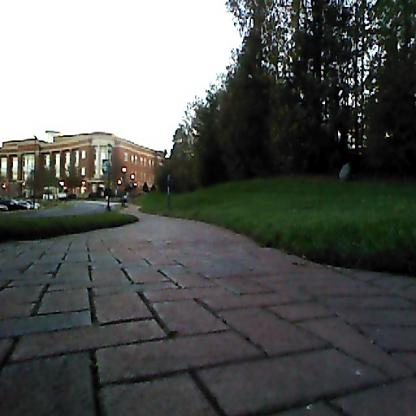Edge: (208, 212, 415, 299), (0, 213, 138, 244)
Sidewalk: (0, 214, 416, 416)
